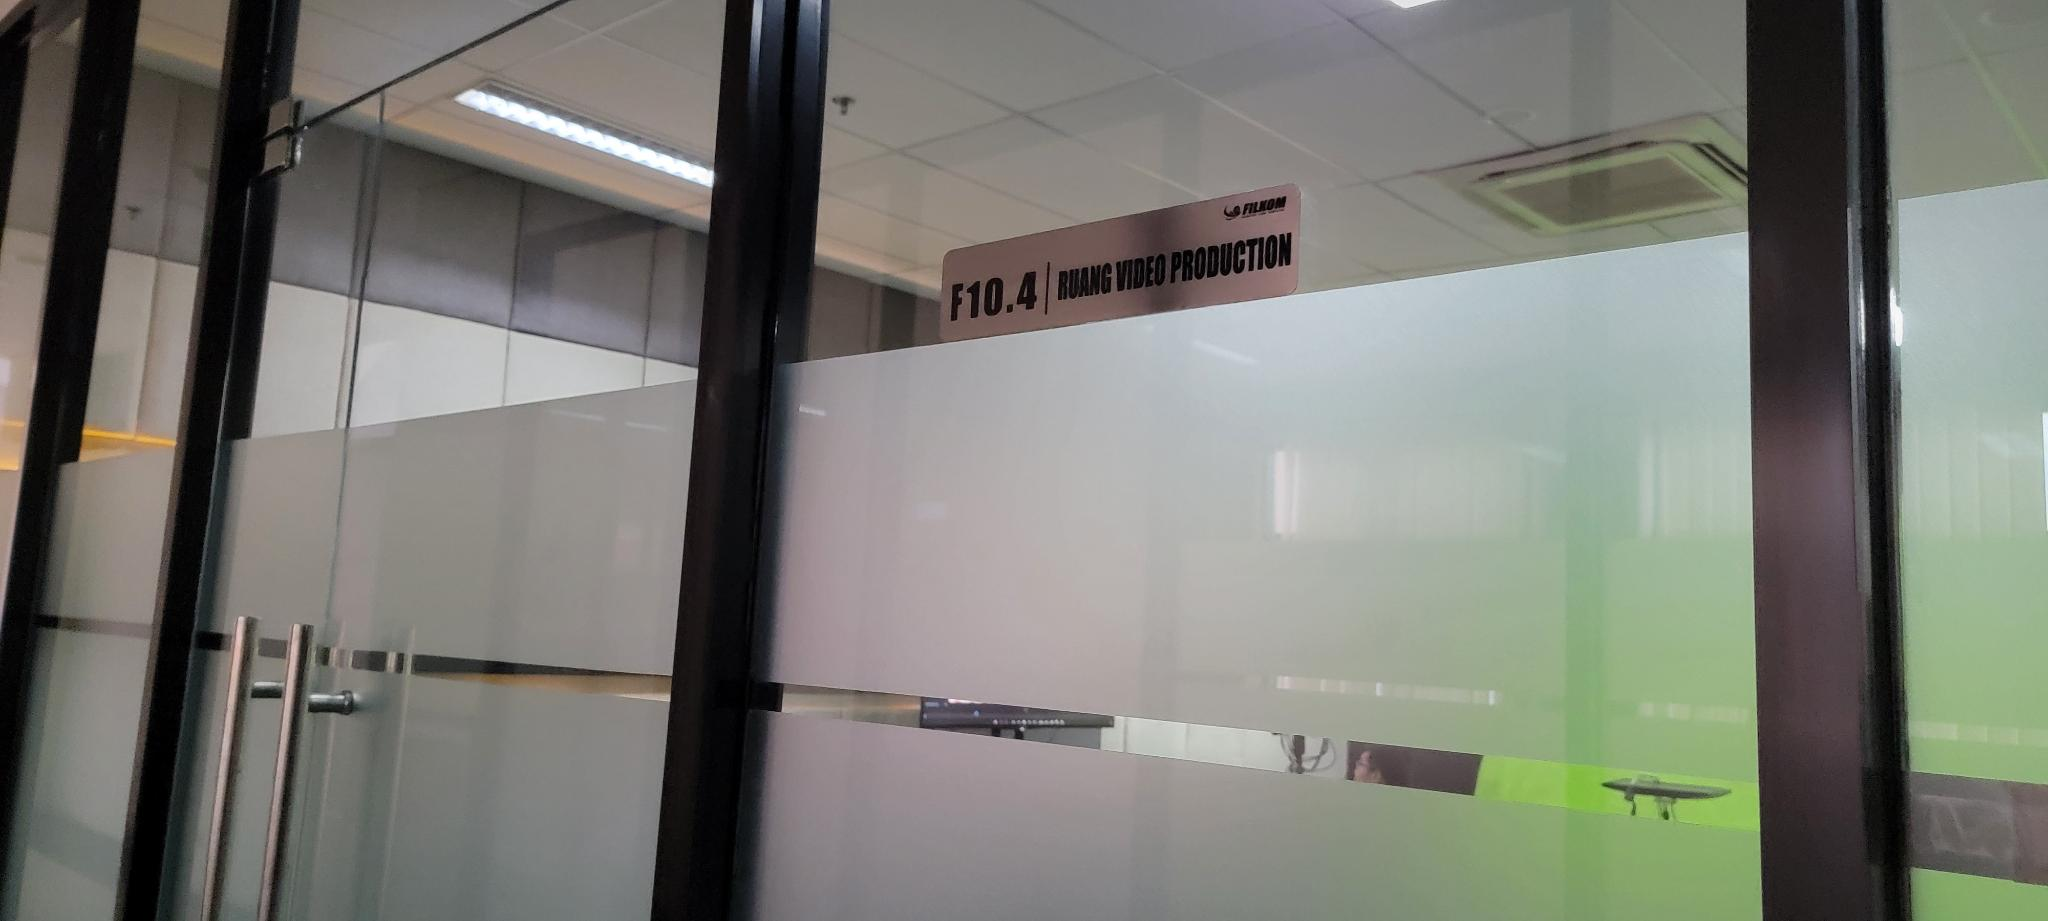plate: (935, 186, 1306, 347)
